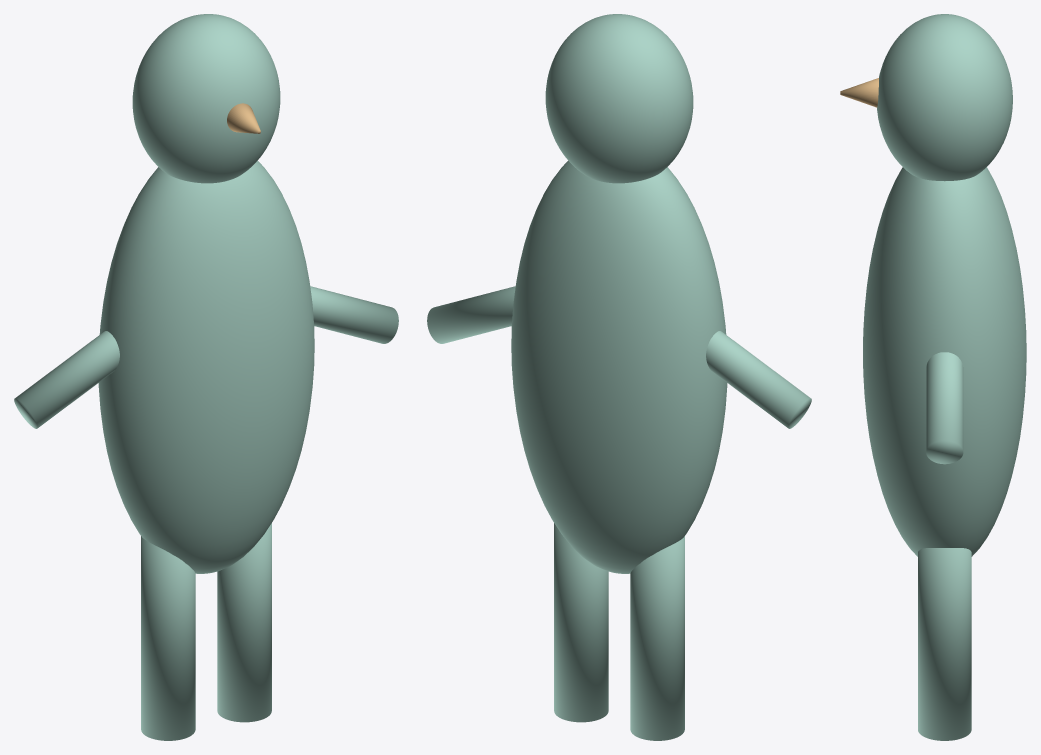
The model's file is anatomy-engine-test-fixture.glb.
3 views of the same model, side by side, from view 1: azimuth 30°, elevation 25°; view 2: azimuth 150°, elevation 25°; view 3: azimuth 270°, elevation 25° (orthographic).
Visible parts, largest first — view 1: skin.outer, skin.head, skin.left-leg, skin.right-leg, skin.left-arm, skin.right-arm, face.nose.external; view 2: skin.outer, skin.head, skin.left-leg, skin.right-leg, skin.left-arm, skin.right-arm; view 3: skin.outer, skin.head, skin.right-leg, skin.right-arm, face.nose.external.
Part boxes in pixels (<box>): skin.outer: <box>98,160,314,573</box>; skin.head: <box>132,14,280,183</box>; skin.left-leg: <box>141,536,195,740</box>; skin.right-leg: <box>217,523,271,722</box>; skin.left-arm: <box>14,331,119,428</box>; skin.right-arm: <box>310,286,398,343</box>; face.nose.external: <box>227,103,260,133</box>; skin.outer: <box>511,160,727,573</box>; skin.head: <box>545,14,693,183</box>; skin.left-leg: <box>630,536,684,740</box>; skin.right-leg: <box>554,523,608,722</box>; skin.left-arm: <box>706,331,811,428</box>; skin.right-arm: <box>427,286,515,343</box>; skin.outer: <box>863,167,1026,556</box>; skin.head: <box>877,14,1012,181</box>; skin.right-leg: <box>918,548,971,740</box>; skin.right-arm: <box>926,352,963,464</box>; face.nose.external: <box>840,78,878,107</box>.
Bounding box in the file's own units: 4.13 × 7.38 × 1.8.
